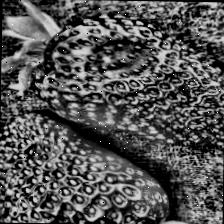Anthracnose Fruit Rot: (88, 35, 162, 83), (20, 136, 63, 168)
